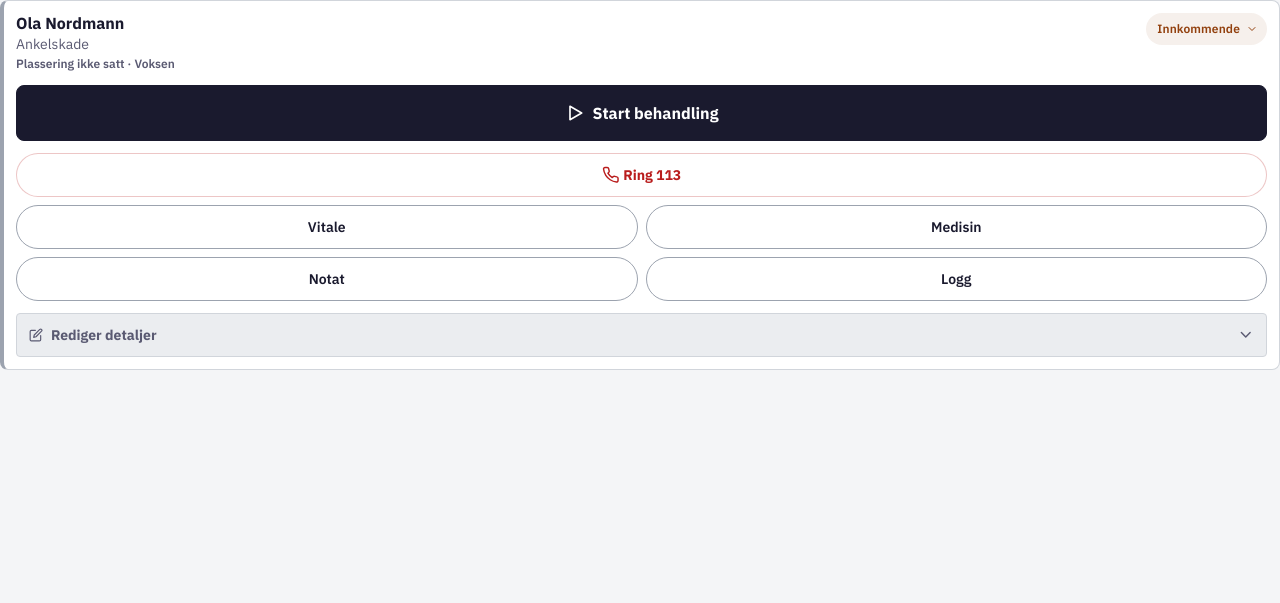
Test: PatientCard — placement editor free-number quick picks (item 8.30) › fills the number field when a free-number chip is clicked
The width and height of the screenshot is (1280, 603).
Click the button with test id "edit-details-toggle-pat-transport-1" at {"x": 104, "y": 335}, box [16,313,1267,357]
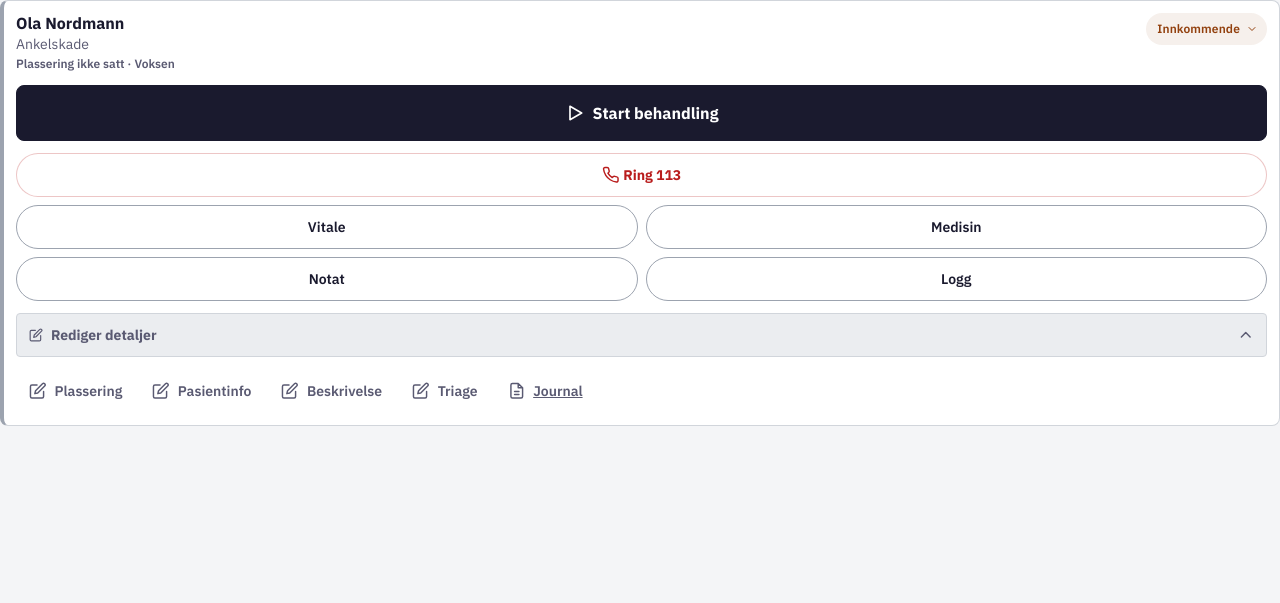
Click the button with aria-label "Rediger plassering" at {"x": 76, "y": 391}, box [16,369,135,413]
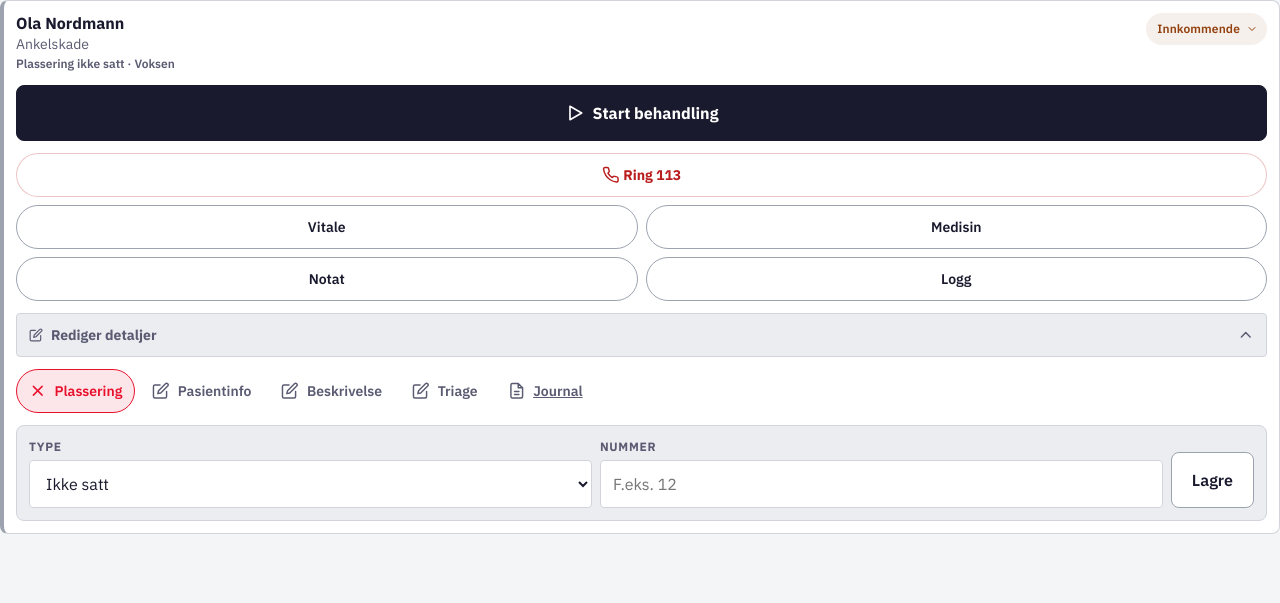
Select "Seng" in the dropdown labelled "Type" at {"x": 310, "y": 484}, box [29,460,592,508]
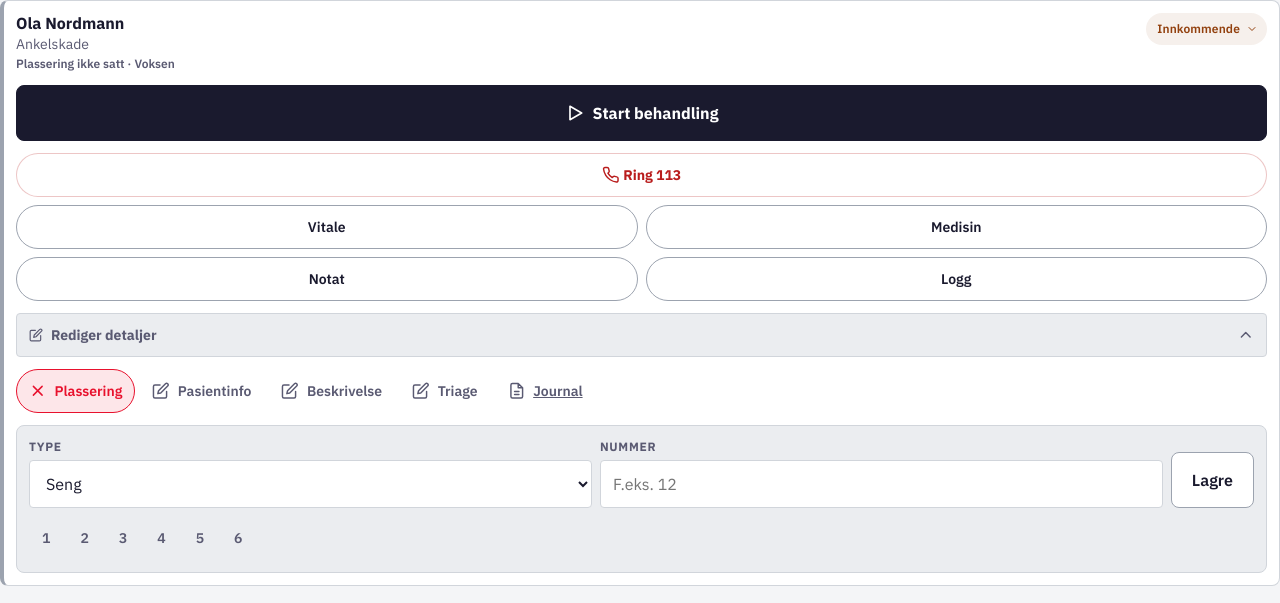
Click the button with test id "placement-free-1" at {"x": 46, "y": 538}, box [29,516,63,560]
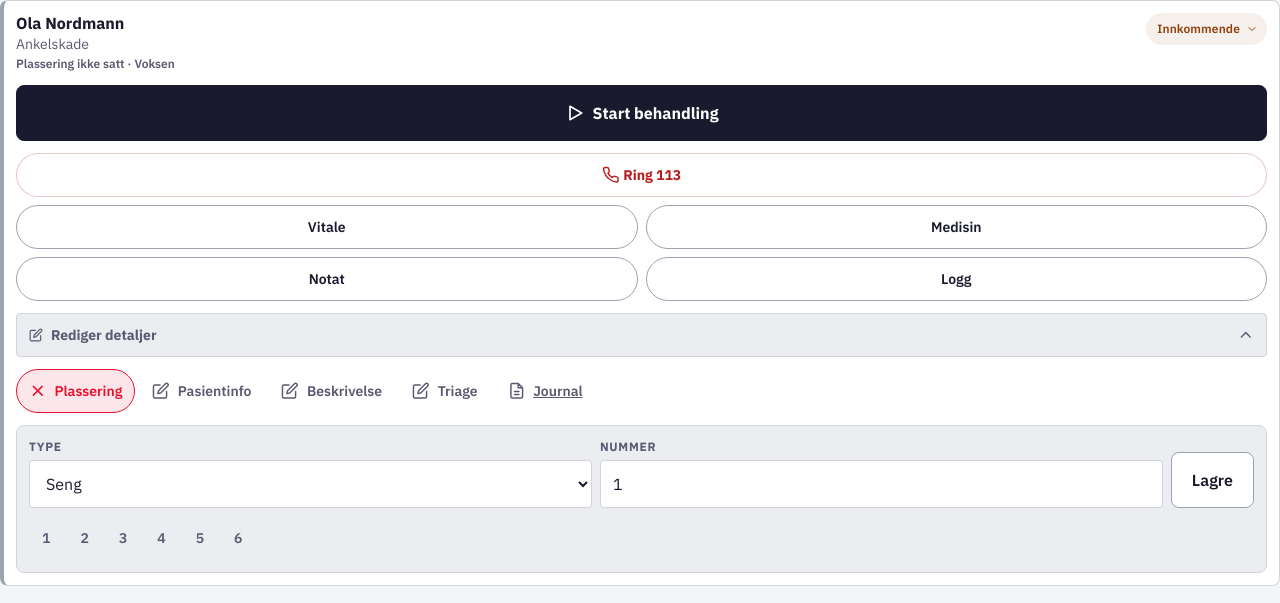
Check: the field labelled "Nummer" holds "1", box [600,460,1163,508]
